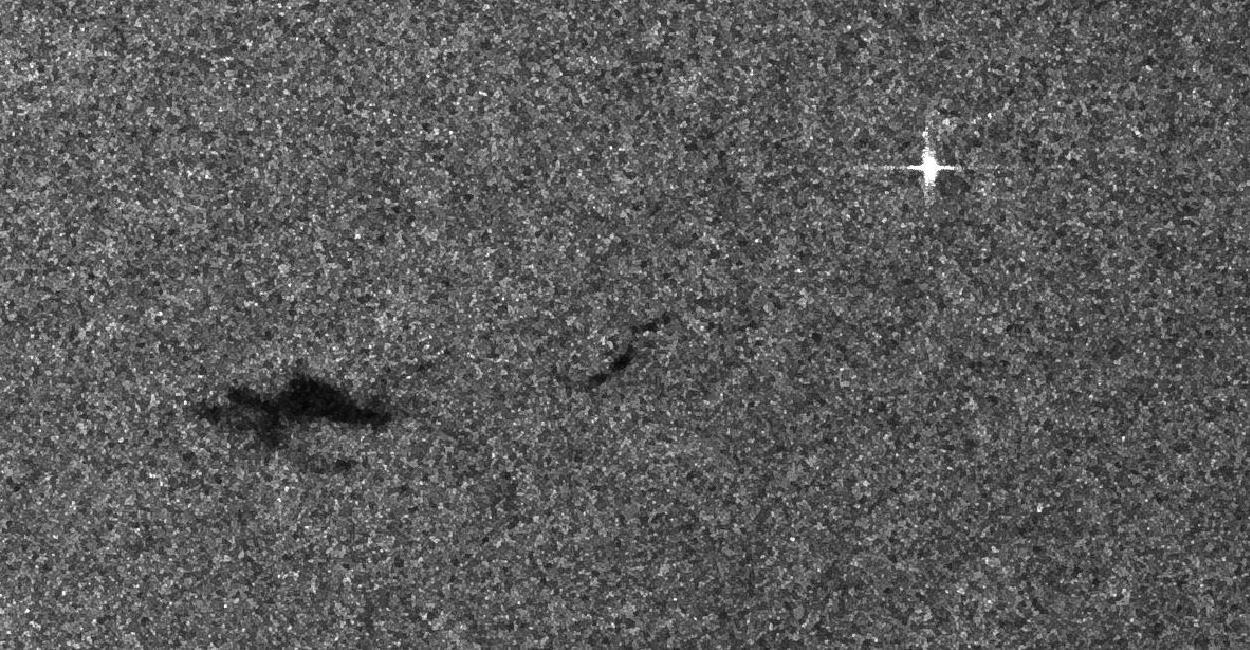Oil Spill: (188, 356, 400, 454), (570, 308, 684, 402), (330, 456, 362, 479), (250, 432, 252, 434), (296, 427, 297, 428)
